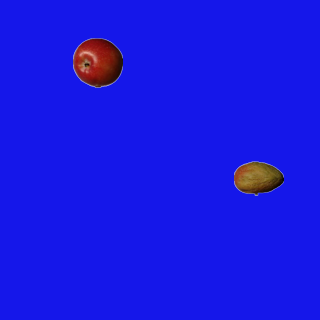Apple Braeburn: (72, 37, 122, 87)
Papaya: (233, 153, 283, 203)
